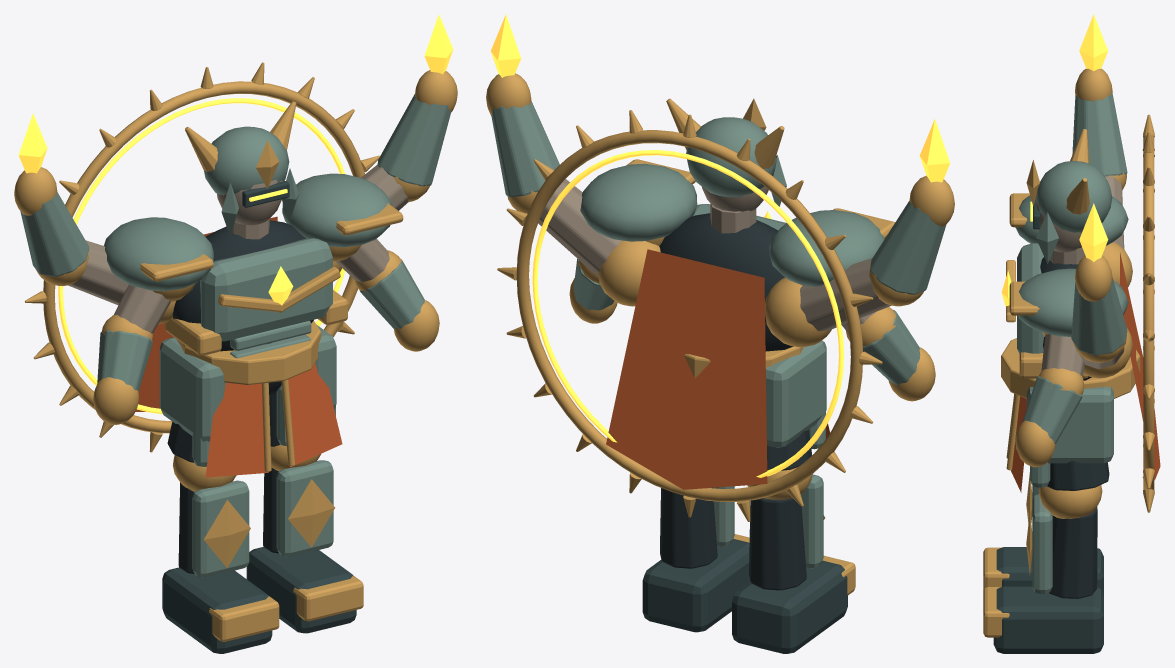
The model's file is sentinel.glb.
3 views of the same model, side by side, from view 1: azimuth 30°, elevation 25°; view 2: azimuth 150°, elevation 25°; view 3: azimuth 270°, elevation 25° (orthographic). The views are drawn at different scales.
Visible parts, largest first — view 1: sentinel__Bronze.001, sentinel__Bronze, sentinel__Obsidian, sentinel__Cloth, sentinel__Sandstone, sentinel__Leather, sentinel__Divine_fire; view 2: sentinel__Bronze.001, sentinel__Bronze, sentinel__Cloth, sentinel__Leather, sentinel__Obsidian, sentinel__Sandstone, sentinel__Divine_fire; view 3: sentinel__Bronze.001, sentinel__Bronze, sentinel__Obsidian, sentinel__Leather, sentinel__Sandstone, sentinel__Divine_fire, sentinel__Cloth.
Boxes of the visible parts, x1=… form: sentinel__Bronze.001: x1=20, y1=94, x2=451, y2=577; sentinel__Bronze: x1=14, y1=62, x2=457, y2=641; sentinel__Obsidian: x1=162, y1=181, x2=356, y2=653; sentinel__Cloth: x1=135, y1=216, x2=342, y2=477; sentinel__Sandstone: x1=68, y1=164, x2=408, y2=333; sentinel__Leather: x1=167, y1=220, x2=313, y2=573; sentinel__Divine_fire: x1=18, y1=14, x2=453, y2=414; sentinel__Bronze.001: x1=491, y1=101, x2=946, y2=568; sentinel__Bronze: x1=486, y1=73, x2=954, y2=595; sentinel__Cloth: x1=606, y1=249, x2=829, y2=489; sentinel__Leather: x1=659, y1=213, x2=811, y2=590; sentinel__Obsidian: x1=642, y1=155, x2=847, y2=653; sentinel__Sandstone: x1=538, y1=179, x2=891, y2=331; sentinel__Divine_fire: x1=491, y1=14, x2=950, y2=477; sentinel__Bronze.001: x1=1015, y1=92, x2=1128, y2=593; sentinel__Bronze: x1=983, y1=68, x2=1154, y2=637; sentinel__Obsidian: x1=993, y1=199, x2=1103, y2=653; sentinel__Leather: x1=1040, y1=257, x2=1109, y2=598; sentinel__Sandstone: x1=1035, y1=176, x2=1124, y2=376; sentinel__Divine_fire: x1=1001, y1=14, x2=1108, y2=306; sentinel__Cloth: x1=1011, y1=252, x2=1160, y2=492.
Size of the model in its own units: 5.1 by 6 by 1.87.
